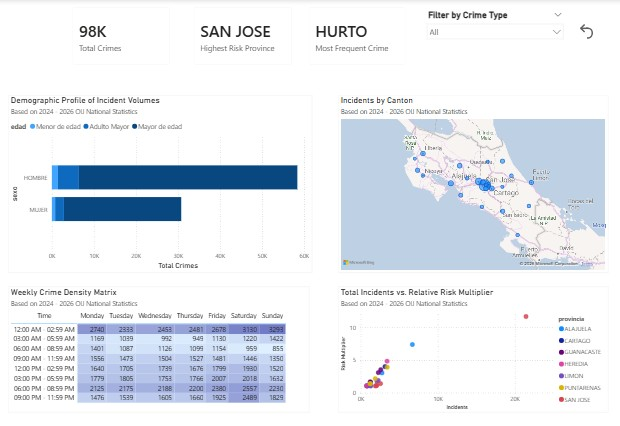

Layout of this report page (visuals, bound fields, positions):
{"tool":"powerbi","page":{"name":"Page 1","canvas":[1280,1500],"ordinal":0},"visuals":[{"type":"pivotTable","title":"Weekly Crime Density Matrix","fields":{"Rows":["public crime_stats.Time_Window_12h"],"Columns":["public crime_stats.Day of Week"],"Values":["CountNonNull(public crime_stats.delito)"]},"box":[20,585.7,614.3,257.1],"z":0},{"type":"barChart","title":"Demographic Profile of Incident Volumes","fields":{"Category":["public crime_stats.sexo"],"Y":["public crime_stats.Total Crimes"],"Series":["public crime_stats.edad"]},"box":[20,197.1,620,361.4],"z":1000},{"type":"map","title":"Incidents by Canton","fields":{"Size":["Avg(Location.actual_incidents)"],"Category":["Location.Location"]},"box":[692.9,197.1,551.4,361.4],"z":2000},{"type":"scatterChart","title":"Total Incidents vs. Relative Risk Multiplier","fields":{"Series":["Location.provincia"],"X":["Avg(Location.actual_incidents)"],"Y":["Avg(Location.risk_multiplier)"],"Category":["Location.canton"]},"box":[692.9,585.7,551.4,257.1],"z":3000},{"type":"slicer","fields":{"Values":["public crime_stats.delito","public crime_stats.subdelito"]},"box":[862.9,17.1,298.6,68.6],"z":4000},{"type":"cardVisual","fields":{"Data":["public crime_stats.Total Crimes"]},"box":[135.7,0,232.9,151.4],"z":5000},{"type":"cardVisual","fields":{"Data":["Min(public crime_stats.provincia)"]},"box":[381.4,0,234.3,151.4],"z":6000},{"type":"cardVisual","fields":{"Data":["Min(public crime_stats.delito)"]},"box":[615.7,0,231.4,151.4],"z":7000},{"type":"actionButton","box":[1180,45.7,100,40],"z":7001}]}

Visuals, with their boxes on the page's 1280x1500 design canvas (x1, y1, x2, y2). These are canvas units, not pixel positions in the 620x426 screenshot, which may show the page scaled, cropped or inside an application window:
"Weekly Crime Density Matrix" pivotTable: l=20, t=586, r=634, b=843
"Demographic Profile of Incident Volumes" barChart: l=20, t=197, r=640, b=558
"Incidents by Canton" map: l=693, t=197, r=1244, b=558
"Total Incidents vs. Relative Risk Multiplier" scatterChart: l=693, t=586, r=1244, b=843
slicer - public crime_stats.delito x public crime_stats.subdelito: l=863, t=17, r=1162, b=86
cardVisual - public crime_stats.Total Crimes: l=136, t=0, r=369, b=151
cardVisual - Min(public crime_stats.provincia): l=381, t=0, r=616, b=151
cardVisual - Min(public crime_stats.delito): l=616, t=0, r=847, b=151
actionButton: l=1180, t=46, r=1280, b=86
